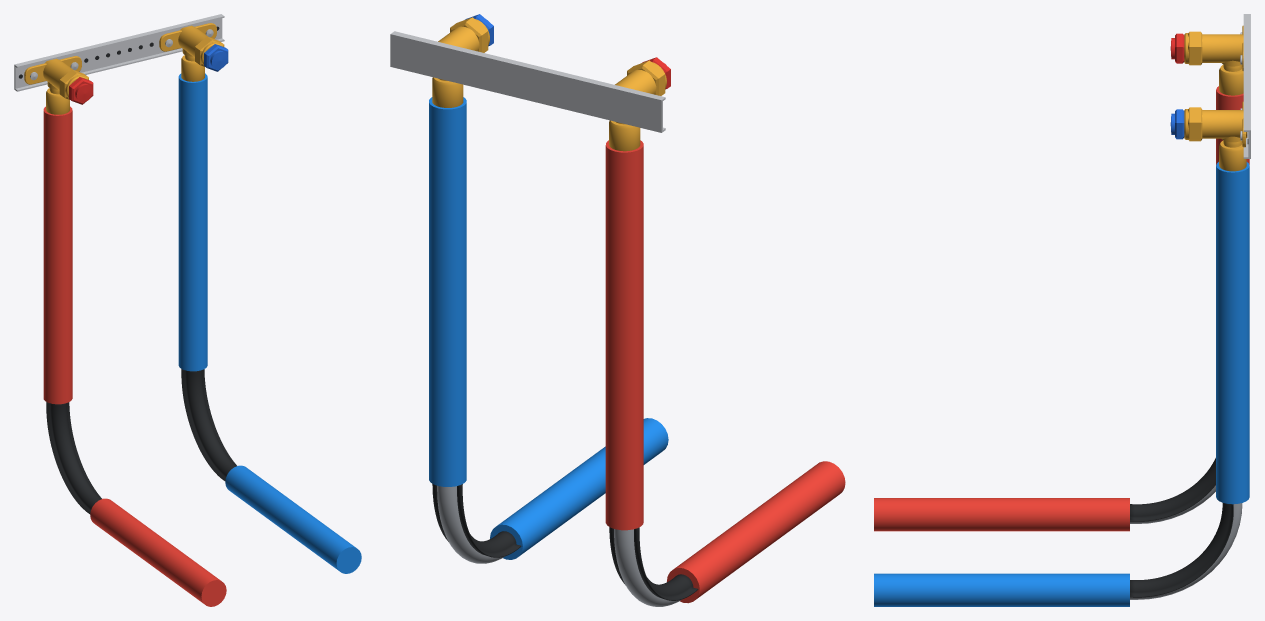
Rendered from water_outlet_double150.glb.
3 views of the same model, side by side, from view 1: azimuth 30°, elevation 25°; view 2: azimuth 150°, elevation 25°; view 3: azimuth 270°, elevation 25° (orthographic). The views are drawn at different scales.
Visible parts, largest first — view 1: изоляция 18/6.002, изоляция 18/6, изоляция 18/6.001, изоляция 18/6.003, фиксатор 90, фиксатор 90.001, планка, отбортовка.001, корпус, корпус.001, отбортовка, ушко (+3 smaller); view 2: изоляция 18/6, изоляция 18/6.002, планка, изоляция 18/6.001, изоляция 18/6.003, труба PEX 16.001, труба PEX 16, отбортовка.001, фиксатор 90, фиксатор 90.001, гильза, гильза.001 (+2 smaller); view 3: изоляция 18/6.002, изоляция 18/6.001, изоляция 18/6.003, фиксатор 90.001, фиксатор 90, корпус.001, корпус, отбортовка.001, труба PEX 16.001, гильза.001, гильза, изоляция 18/6.
Part boxes in pixels (x1,y1,x2,y2): изоляция 18/6.002: (178, 73, 207, 371); изоляция 18/6: (43, 106, 72, 404); изоляция 18/6.001: (90, 498, 226, 606); изоляция 18/6.003: (225, 465, 361, 573); фиксатор 90: (46, 402, 101, 514); фиксатор 90.001: (181, 369, 236, 480); планка: (14, 18, 222, 89); отбортовка.001: (14, 14, 224, 67); корпус: (43, 58, 87, 98); корпус.001: (178, 25, 222, 64); отбортовка: (14, 38, 224, 91); ушко: (24, 56, 81, 84); изоляция 18/6: (605, 140, 643, 530); изоляция 18/6.002: (429, 97, 466, 486); планка: (390, 35, 662, 131); изоляция 18/6.001: (667, 461, 845, 603); изоляция 18/6.003: (490, 418, 668, 559); труба PEX 16.001: (437, 485, 504, 563); труба PEX 16: (614, 529, 681, 606); отбортовка.001: (390, 31, 665, 101); фиксатор 90: (609, 527, 698, 600); фиксатор 90.001: (432, 484, 521, 557); гильза: (609, 120, 640, 151); гильза.001: (432, 77, 463, 107); изоляция 18/6.002: (1216, 162, 1249, 504); изоляция 18/6.001: (874, 498, 1129, 531); изоляция 18/6.003: (874, 573, 1129, 606); фиксатор 90.001: (1130, 503, 1233, 597); фиксатор 90: (1130, 458, 1215, 521); корпус.001: (1184, 109, 1247, 139); корпус: (1184, 33, 1243, 63); отбортовка.001: (1243, 14, 1250, 131); труба PEX 16.001: (1130, 503, 1242, 599); гильза.001: (1219, 140, 1246, 171); гильза: (1219, 64, 1243, 95); изоляция 18/6: (1216, 86, 1249, 165).
Size of the model in its own units: 0.23 by 0.4596 by 0.315.
